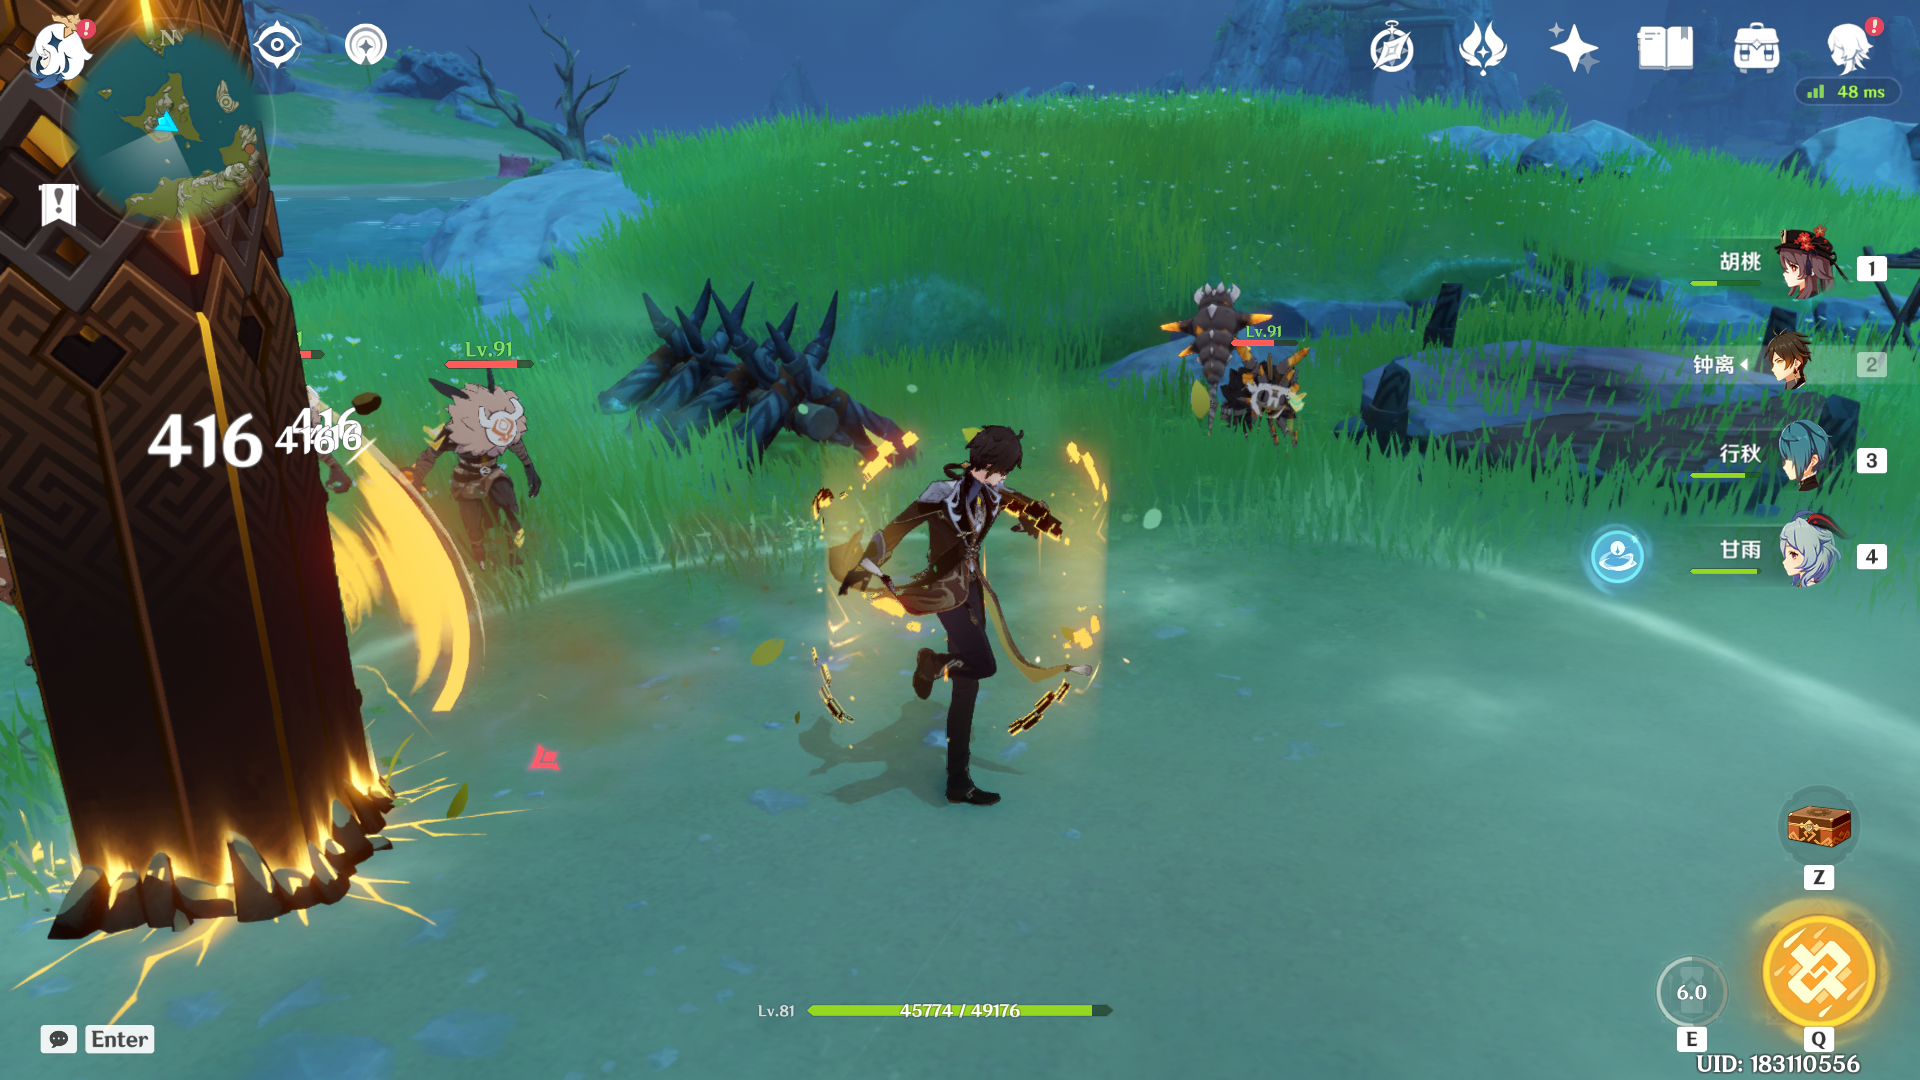character: (833, 400, 1153, 872)
hili: (1143, 257, 1362, 484), (398, 352, 566, 603)
